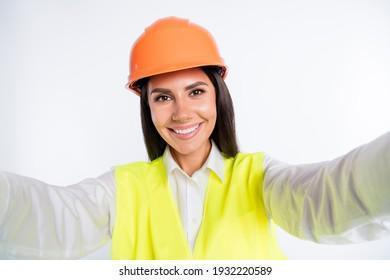helmet: (124, 15, 229, 95)
